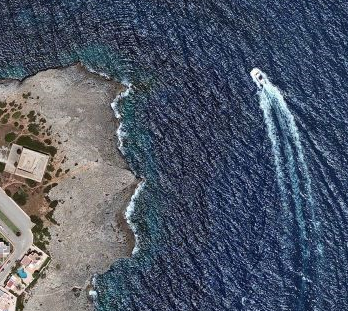ship: (243, 63, 277, 91)
